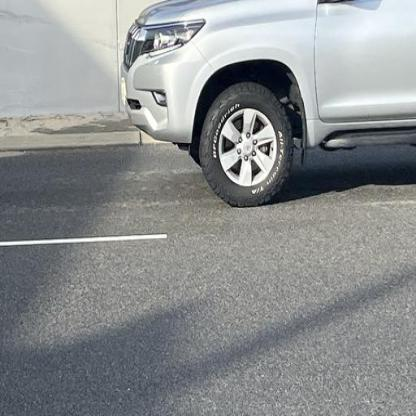Tire: (199, 81, 294, 208)
